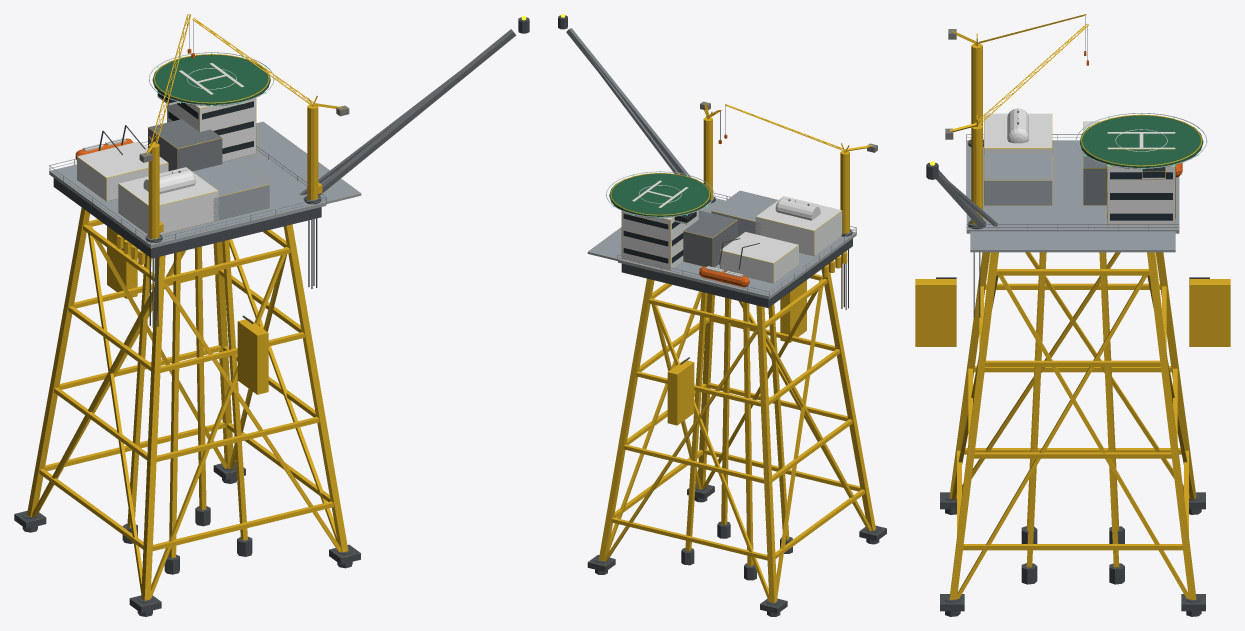
File: off_fixed_platform.glb
The picture shows the model from 3 angles, left to right: view 1: azimuth 30°, elevation 25°; view 2: azimuth 150°, elevation 25°; view 3: azimuth 270°, elevation 25°; orthographic projection. The views are drawn at different scales.
Visible parts, largest first — view 1: off_fixed_platform; view 2: off_fixed_platform; view 3: off_fixed_platform.
Part boxes in pixels (x1,y1,x2,y2): off_fixed_platform: (14,14,529,616); off_fixed_platform: (558,14,886,616); off_fixed_platform: (915,14,1230,616).
Size of the model in its own units: 67.8 by 88.87 by 46.
